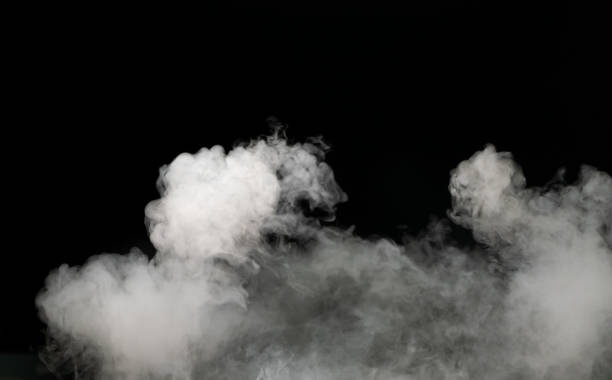smoke: (36, 250, 612, 380), (140, 130, 327, 257), (447, 143, 612, 250)
